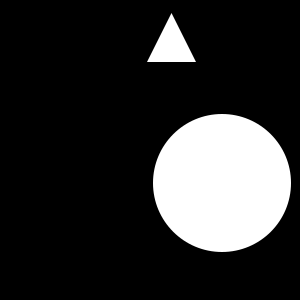rectangle: (153, 114, 291, 252)
triangle: (147, 13, 196, 62)
